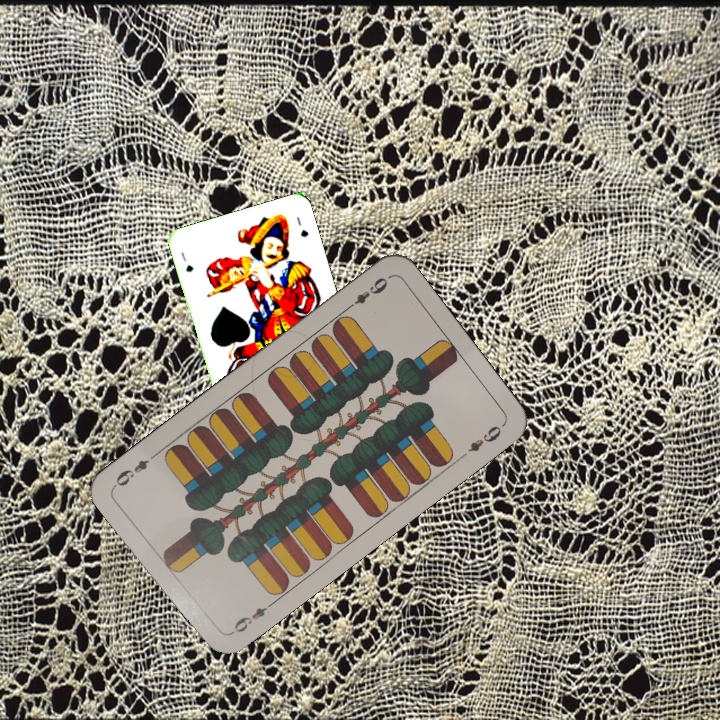E9: (224, 597, 276, 639), (341, 273, 391, 313)
GU: (177, 248, 196, 275)
